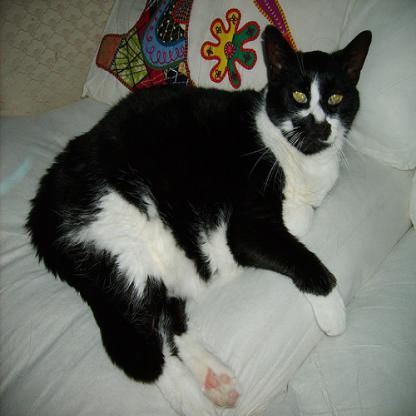cat: (23, 22, 373, 415)
